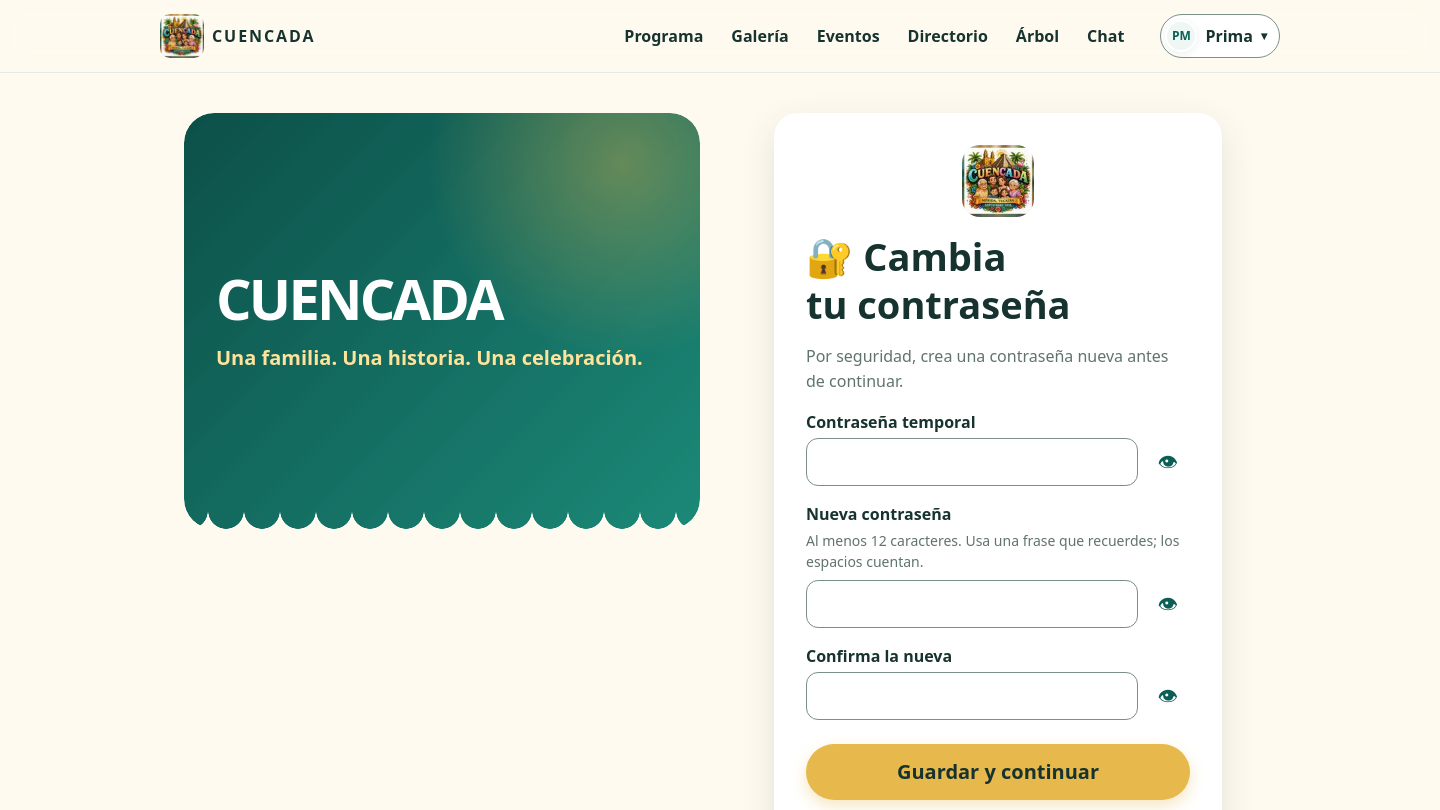
Scenario: ChangePasswordPage › names each show/hide toggle after its own field
This screenshot has width=1440, height=810.
Expected: the button named "Mostrar contraseña temporal" is shown, left=1146, top=440, right=1190, bottom=484
Expected: the button named "Mostrar nueva contraseña" is shown, left=1146, top=582, right=1190, bottom=626
Click the button named "Mostrar confirmación".
click(1168, 696)  # box left=1146, top=674, right=1190, bottom=718
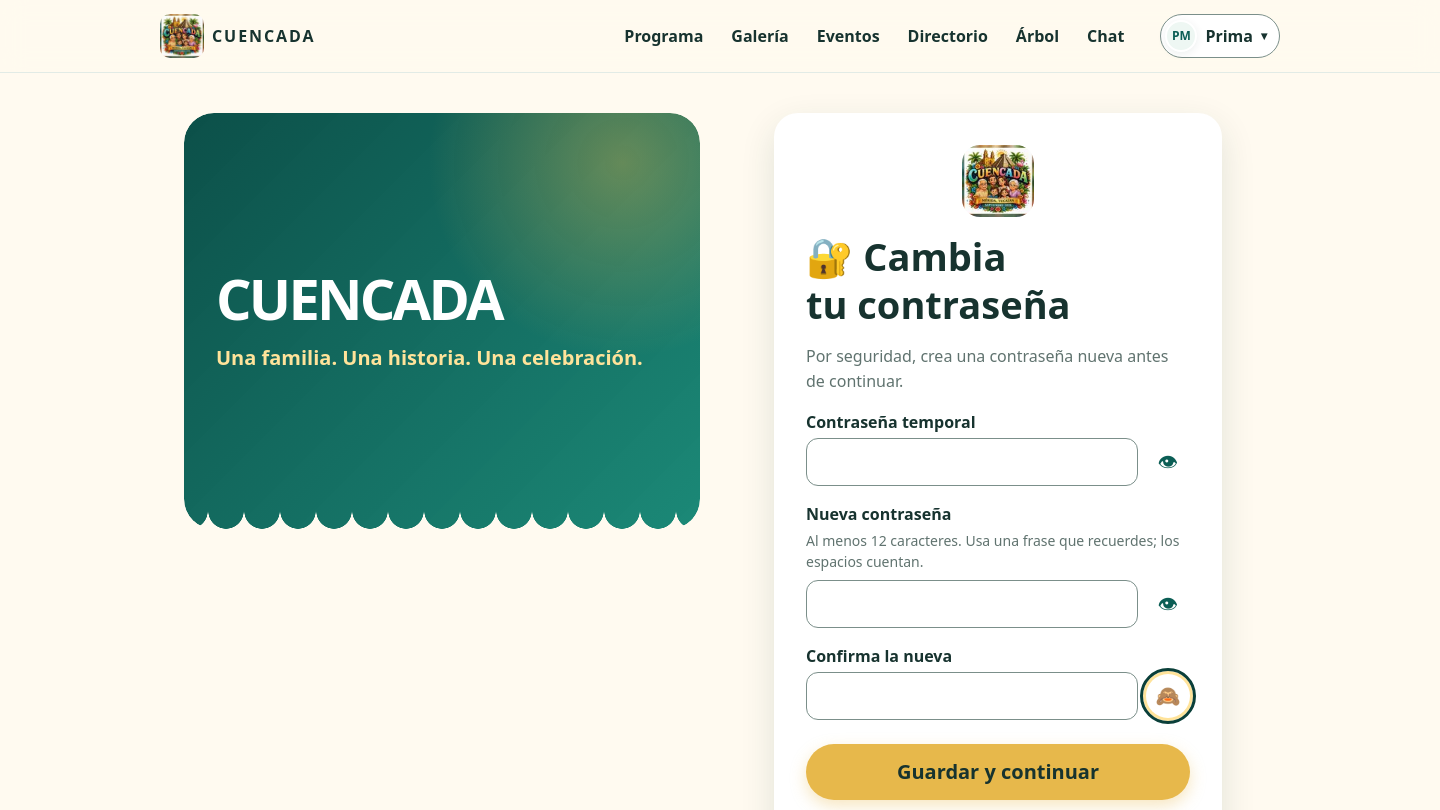
Result: the button named "Ocultar confirmación" is shown at left=1146, top=674, right=1190, bottom=718
